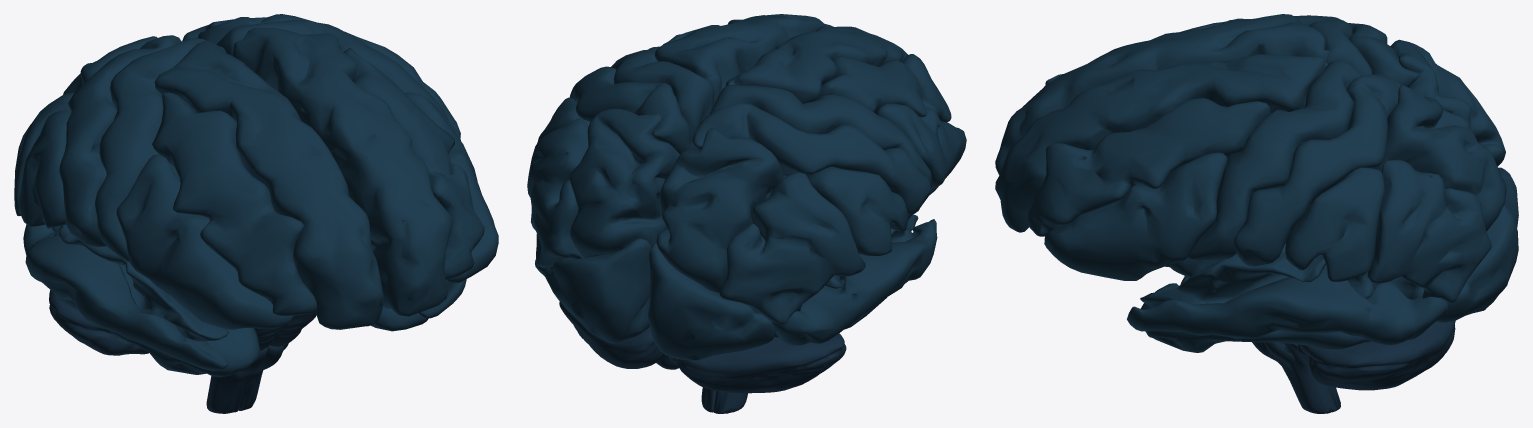
File: brain-shell.glb
3 views of the same model, side by side, from view 1: azimuth 30°, elevation 25°; view 2: azimuth 150°, elevation 25°; view 3: azimuth 270°, elevation 25° (orthographic). The views are drawn at different scales.
Parts seen in each view (by area): view 1: CortexRight, CortexLeft, BrainStem, Cerebellum; view 2: CortexRight, CortexLeft, Cerebellum, BrainStem; view 3: CortexLeft, CortexRight, Cerebellum, BrainStem.
Part boxes in pixels (bbox=[...]): CortexRight: bbox=[14, 35, 383, 377]; CortexLeft: bbox=[182, 14, 498, 331]; BrainStem: bbox=[206, 312, 316, 413]; Cerebellum: bbox=[49, 290, 148, 355]; CortexRight: bbox=[647, 26, 966, 360]; CortexLeft: bbox=[527, 14, 833, 343]; Cerebellum: bbox=[559, 301, 846, 393]; BrainStem: bbox=[701, 387, 747, 413]; CortexLeft: bbox=[995, 54, 1518, 352]; CortexRight: bbox=[995, 14, 1518, 227]; Cerebellum: bbox=[1297, 320, 1455, 390]; BrainStem: bbox=[1252, 342, 1340, 413].
Bounding box in the file's own units: 3.48 × 3.19 × 4.17.
